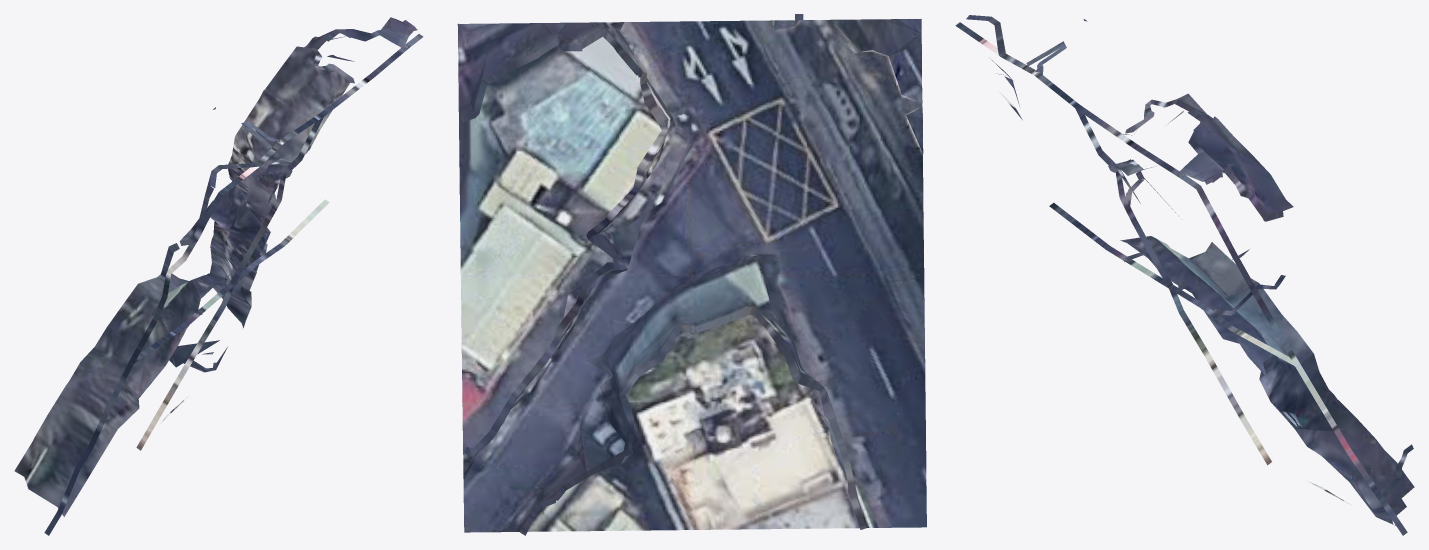
3 renders of one model, left to right at view 1: azimuth 30°, elevation 25°; view 2: azimuth 150°, elevation 25°; view 3: azimuth 270°, elevation 25°, orthographic. The views are drawn at different scales.
Size of the model in its own units: 38.19 by 37.56 by 34.78.
1 material, 1 textured.
